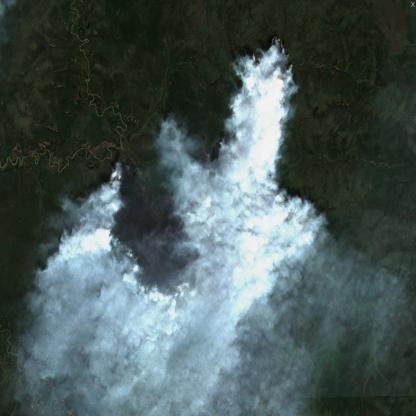fire: (96, 158, 200, 310), (246, 29, 297, 214)
